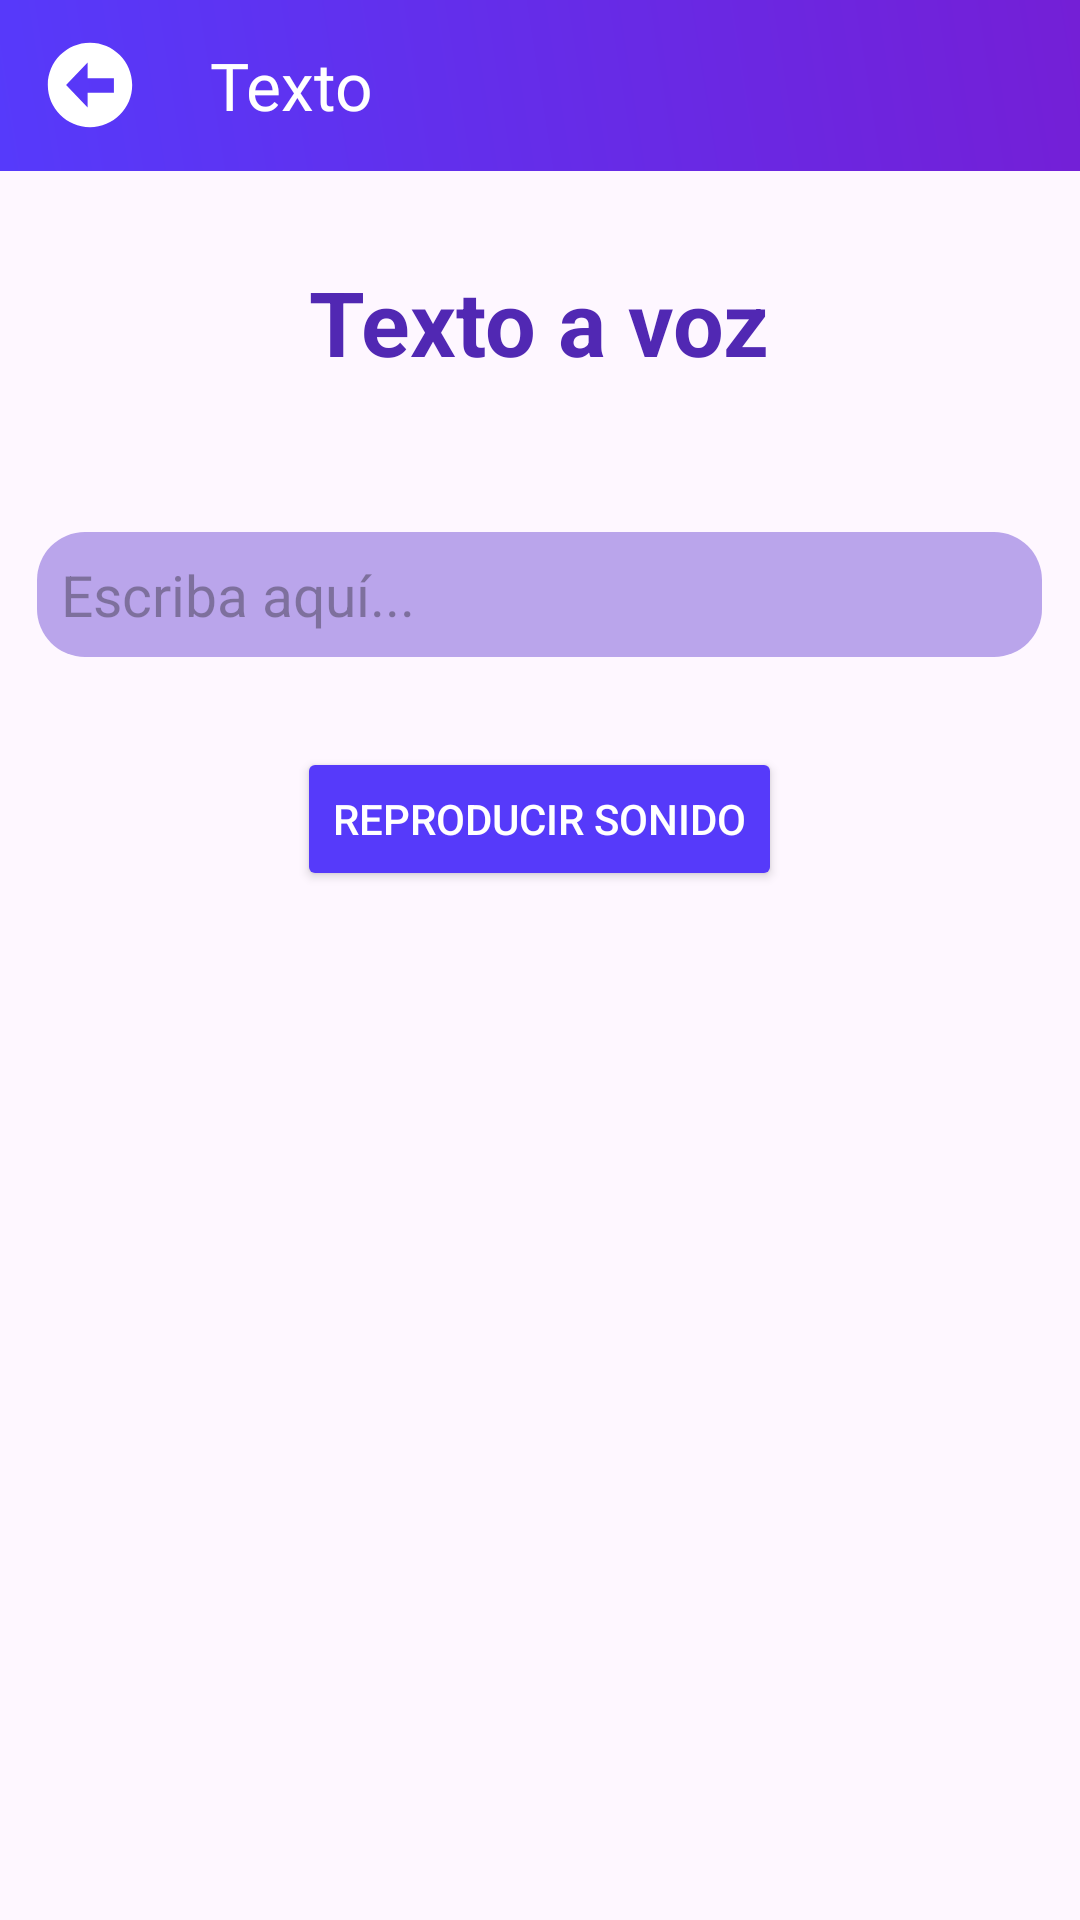

Locate icon controls on the screen. Image size 1080w x 1920h, boxes as (x1, y1, x2, y2).
flecha volver: (47, 42, 133, 128)
